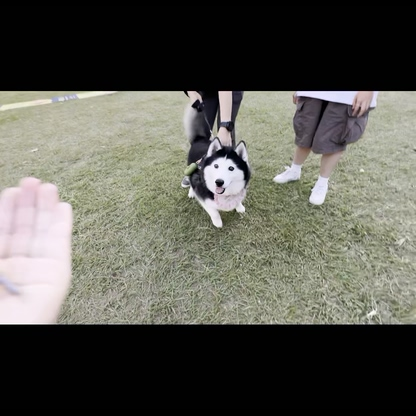husky: (186, 134, 256, 230)
